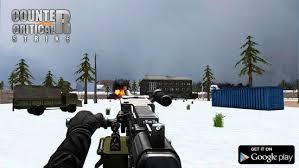gun: (101, 93, 183, 166)
